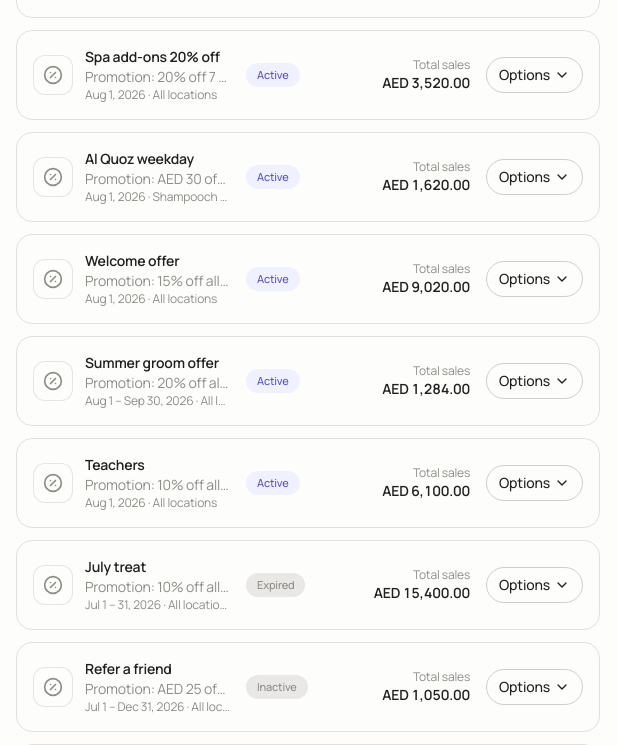
Test case: the row menu › duplicates a deal as an inactive copy
This screenshot has width=617, height=745.
(page scrolled)
Click the button "Options" next to "AED 1,284.00": coordinates (534, 381) [486,363,583,399]
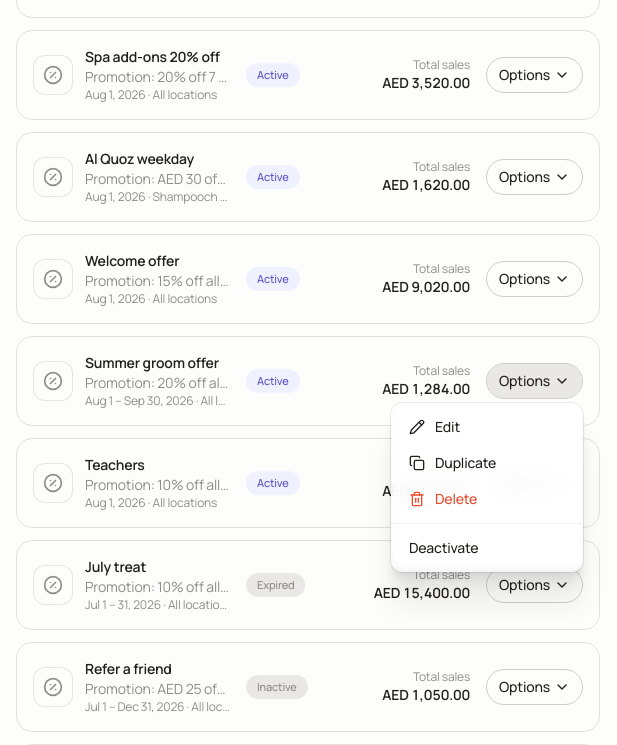
Click the menu item "Duplicate": coordinates (453, 462) [409,453,496,472]
(page scrolled)
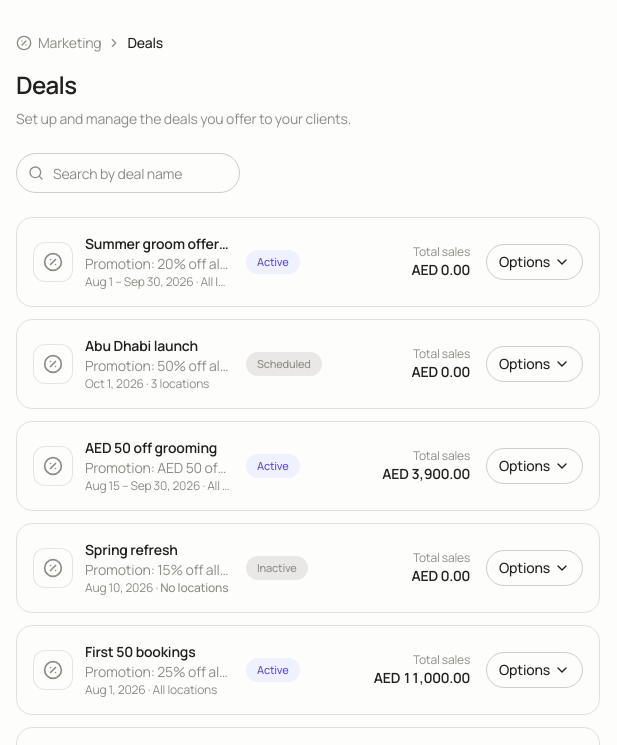
Expected: the text "Summer groom offer (copy)" is shown, [85,234,230,254]
